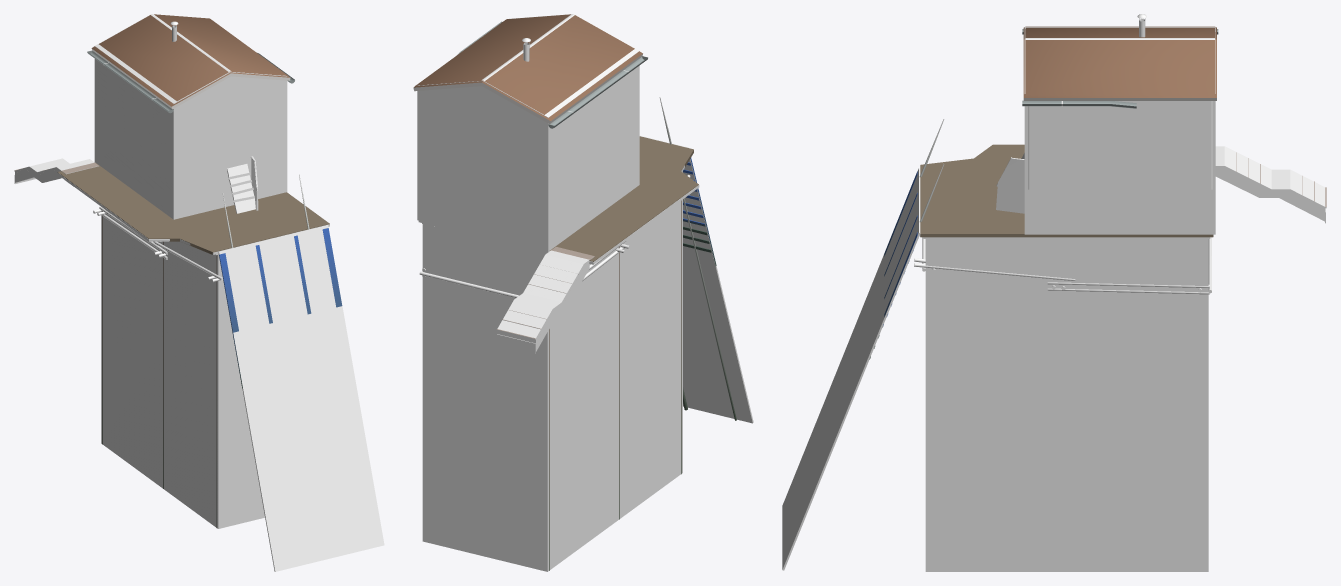
The model's file is eca_bld_fv_tall_shack.DAE.
3 renders of one model, left to right at view 1: azimuth 30°, elevation 25°; view 2: azimuth 150°, elevation 25°; view 3: azimuth 270°, elevation 25°, orthographic. The views are drawn at different scales.
Parts seen in each view (by area): view 1: Colmesh-1, eca_bld_fv_tall_shack250, eca_bld_fv_tall_shack60, eca_bld_fv_tall_shack120; view 2: Colmesh-1, eca_bld_fv_tall_shack250, eca_bld_fv_tall_shack120, eca_bld_fv_tall_shack60; view 3: Colmesh-1, eca_bld_fv_tall_shack250, eca_bld_fv_tall_shack60, eca_bld_fv_tall_shack120.
Boxes of the visible parts, box(x1,y1,x2,y2) form: Colmesh-1: box(15, 14, 384, 571); eca_bld_fv_tall_shack250: box(14, 14, 342, 527); eca_bld_fv_tall_shack60: box(57, 162, 329, 254); eca_bld_fv_tall_shack120: box(91, 15, 290, 109); Colmesh-1: box(417, 14, 753, 571); eca_bld_fv_tall_shack250: box(413, 14, 736, 570); eca_bld_fv_tall_shack120: box(414, 15, 642, 123); eca_bld_fv_tall_shack60: box(550, 136, 698, 261); Colmesh-1: box(782, 27, 1325, 571); eca_bld_fv_tall_shack250: box(869, 14, 1326, 359); eca_bld_fv_tall_shack60: box(920, 144, 1213, 237); eca_bld_fv_tall_shack120: box(1023, 26, 1216, 39).
Size of the model in its own units: 5.55 by 13.62 by 14.41.
